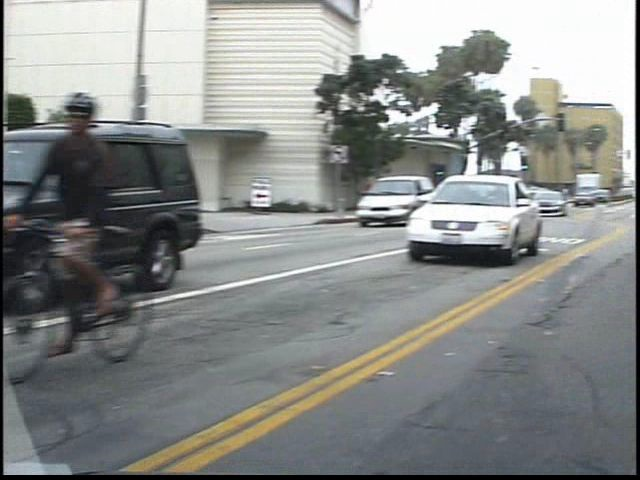person: (47, 88, 169, 357), (380, 173, 400, 212)
